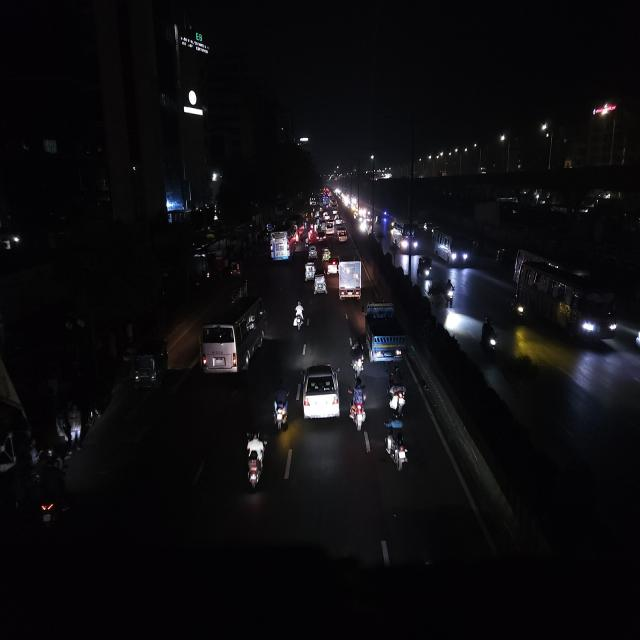bus: (510, 251, 622, 345), (198, 290, 270, 386), (432, 225, 472, 270), (269, 219, 299, 265), (391, 222, 418, 256)
car: (299, 361, 341, 426), (336, 227, 348, 243)
cng: (130, 334, 170, 393), (416, 254, 434, 283), (312, 267, 328, 298), (494, 245, 510, 269), (303, 258, 317, 284), (308, 241, 317, 259)
motorcycle: (28, 454, 68, 540), (382, 413, 412, 476), (242, 428, 268, 494), (347, 375, 369, 434), (384, 366, 410, 415), (270, 382, 292, 434), (479, 315, 499, 363), (348, 333, 366, 380), (292, 296, 306, 336), (444, 276, 457, 309)
pickup_van: (364, 299, 409, 366)
truck: (335, 246, 363, 304)
